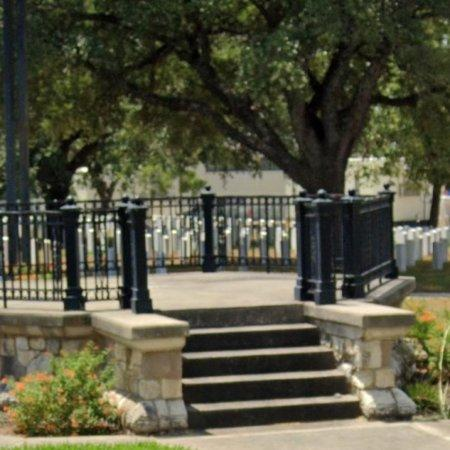stairs: (160, 304, 361, 429)
